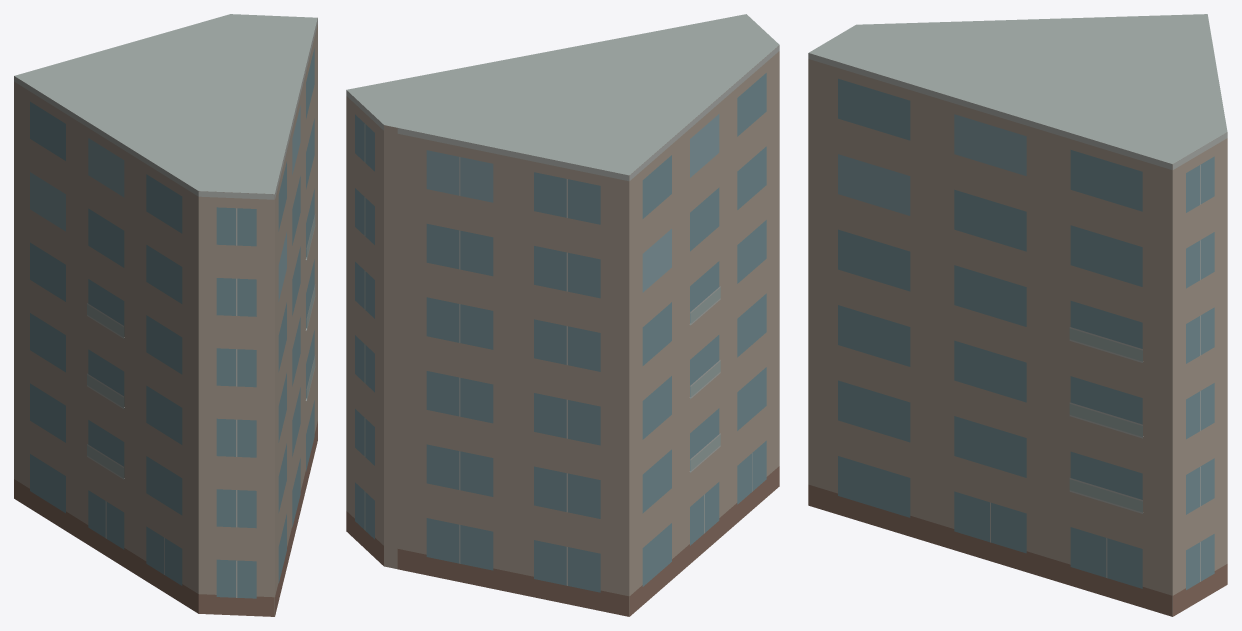
The model's file is survey-upis-32709065.glb.
3 renders of one model, left to right at view 1: azimuth 30°, elevation 25°; view 2: azimuth 150°, elevation 25°; view 3: azimuth 270°, elevation 25°, orthographic. The views are drawn at different scales.
Parts seen in each view (by area): view 1: survey-upis-32709065.tmp; view 2: survey-upis-32709065.tmp; view 3: survey-upis-32709065.tmp.
Part boxes in pixels (bbox=[...]): survey-upis-32709065.tmp: bbox=[14, 14, 317, 616]; survey-upis-32709065.tmp: bbox=[346, 14, 779, 616]; survey-upis-32709065.tmp: bbox=[808, 14, 1227, 616].
Bounding box in the file's own units: 13.03 × 18.3 × 15.36.
